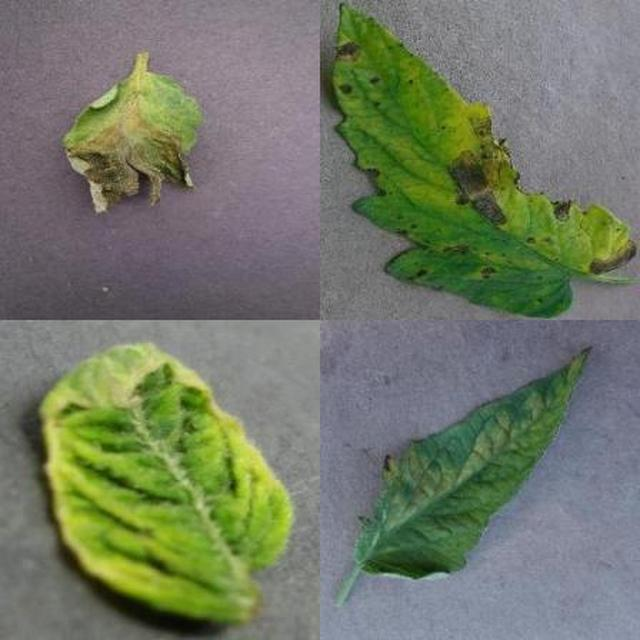Late Blight Leaf: (187, 199, 640, 640)
